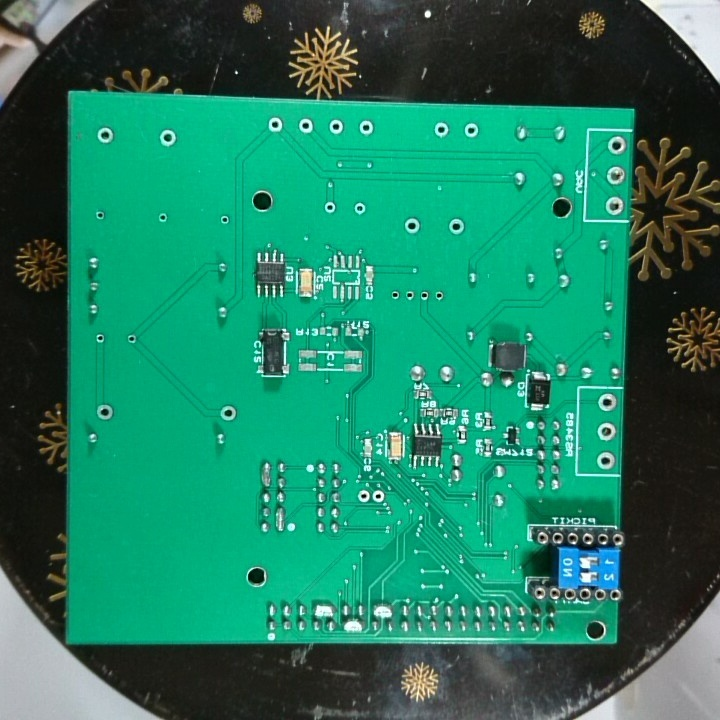F: (603, 193, 626, 217), (594, 392, 619, 414), (94, 124, 116, 149), (157, 126, 179, 151), (595, 420, 617, 444), (431, 118, 453, 142), (445, 216, 468, 238), (603, 163, 625, 186), (217, 403, 239, 425), (94, 402, 117, 423), (606, 135, 627, 158), (595, 450, 617, 471), (402, 215, 422, 238), (295, 115, 317, 135), (265, 115, 285, 135), (357, 118, 377, 138), (462, 120, 481, 141), (325, 117, 345, 136), (351, 198, 368, 217), (356, 487, 372, 506), (322, 198, 337, 218), (431, 286, 445, 307), (154, 209, 171, 226), (92, 330, 109, 346), (388, 286, 402, 305), (417, 286, 431, 305), (92, 208, 108, 224), (402, 286, 416, 304), (371, 489, 386, 505), (124, 332, 139, 348), (217, 213, 232, 227)
P: (369, 600, 396, 621), (311, 602, 339, 619), (339, 618, 367, 635), (258, 459, 273, 488), (273, 505, 285, 532)
